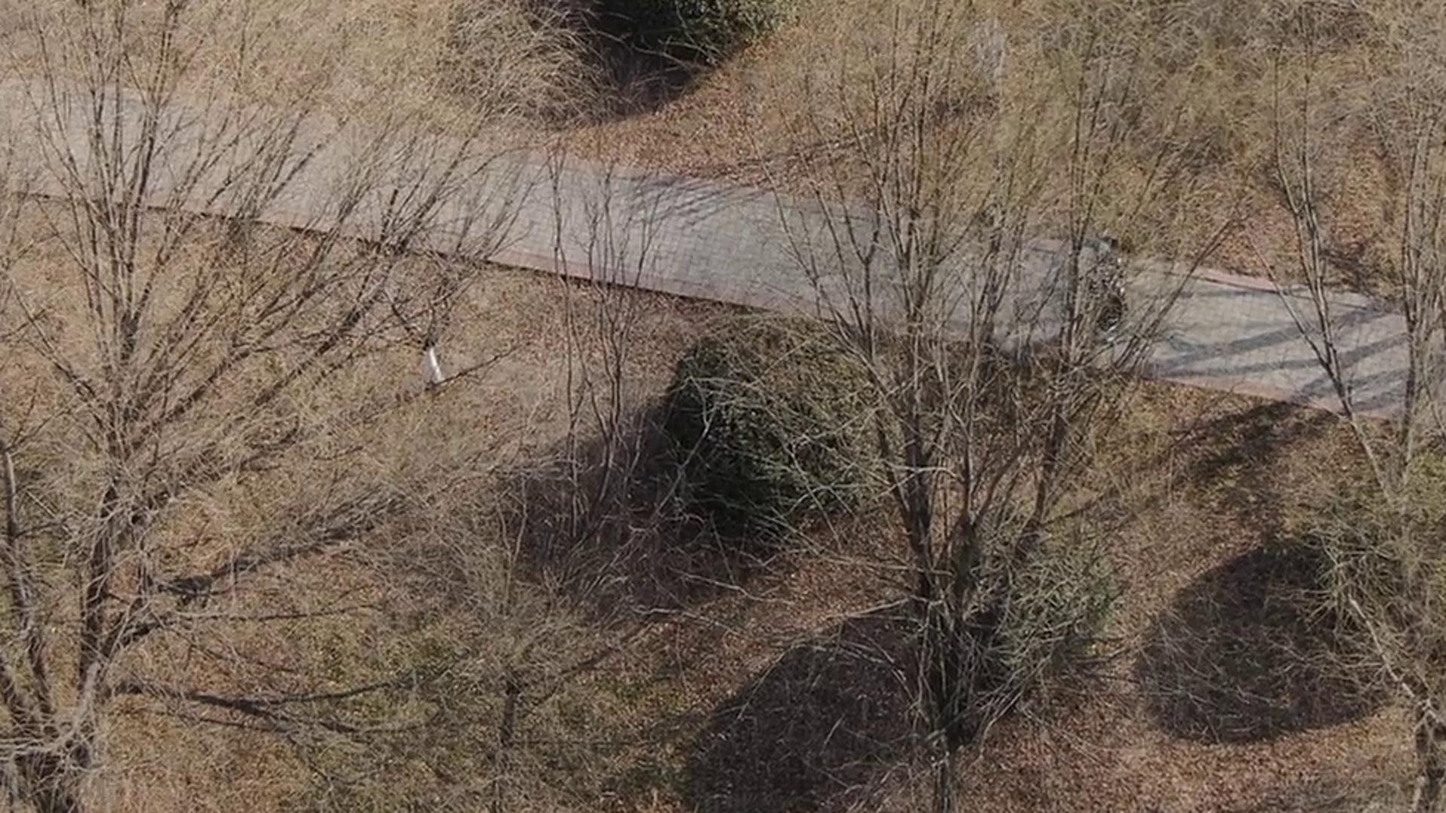human: (1081, 259, 1139, 373)
